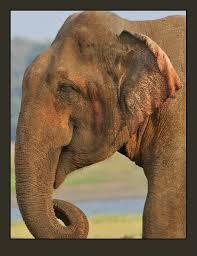elephant: (15, 11, 185, 238)
